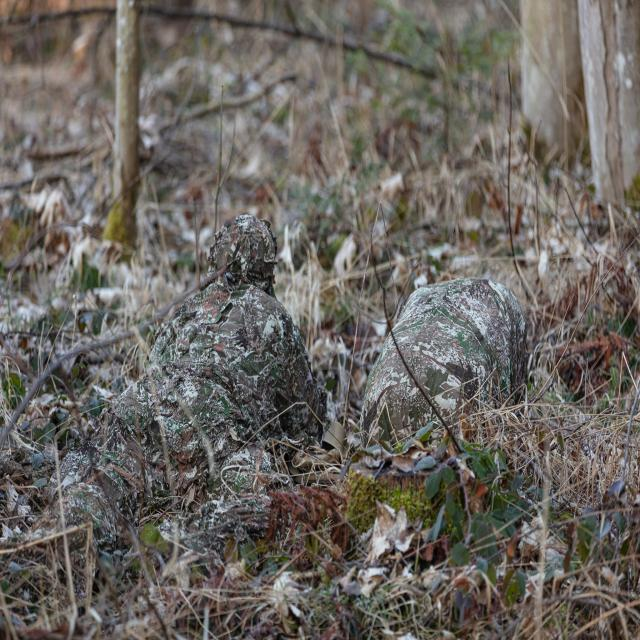Camouflage: (47, 216, 321, 632)
